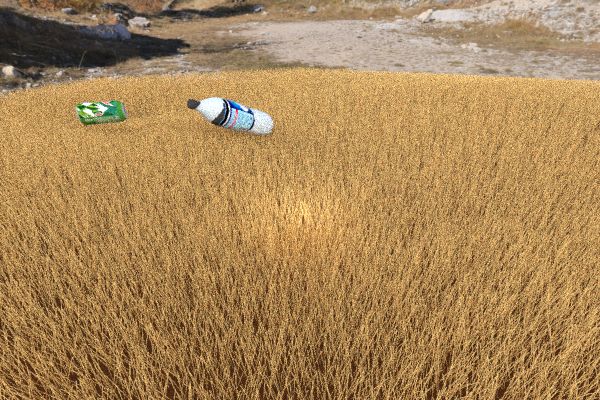bottle: (186, 97, 273, 135)
can: (33, 92, 80, 120), (75, 100, 127, 125)
